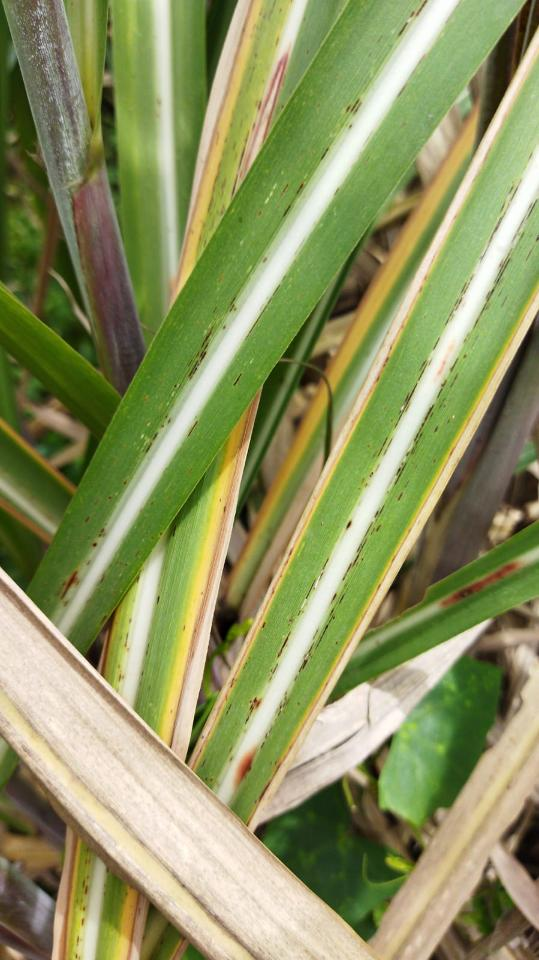RedRot: (241, 46, 291, 183), (438, 561, 523, 607), (233, 743, 261, 792)
Rust: (192, 169, 479, 771), (259, 193, 539, 752), (357, 155, 534, 494), (267, 555, 331, 685), (244, 274, 288, 343), (73, 845, 94, 959), (184, 325, 216, 382), (229, 130, 252, 201), (395, 1, 430, 41), (143, 410, 173, 454), (279, 182, 308, 219), (56, 570, 82, 605), (244, 696, 265, 729), (524, 231, 539, 265), (88, 527, 107, 550), (345, 97, 366, 117), (397, 478, 412, 504), (186, 419, 200, 439), (231, 370, 244, 390), (319, 146, 332, 163), (227, 295, 238, 314), (98, 613, 108, 627), (123, 632, 130, 649), (83, 513, 92, 525), (345, 519, 353, 532), (118, 673, 126, 683), (155, 594, 161, 606), (145, 643, 150, 657), (433, 425, 440, 434), (173, 383, 183, 389), (446, 416, 452, 425)
Yellow: (271, 279, 539, 777), (328, 99, 480, 396), (156, 405, 251, 748), (174, 0, 266, 302), (229, 382, 329, 581), (63, 835, 83, 959), (115, 882, 140, 959)
